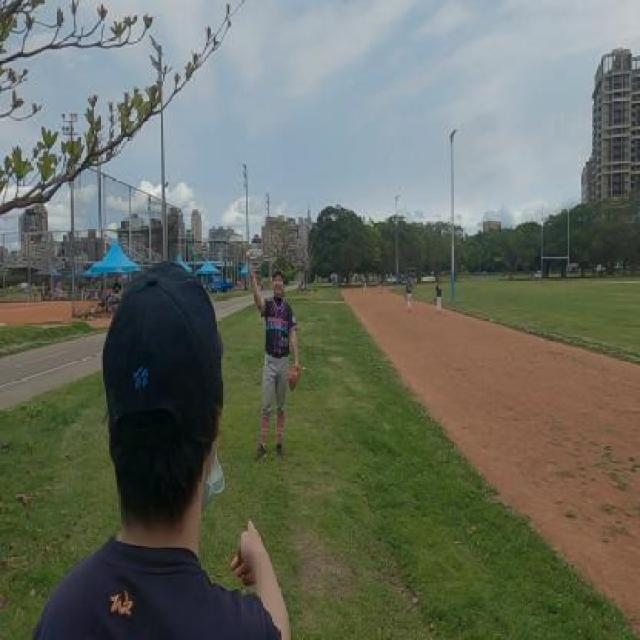baseball: (245, 250, 250, 259)
